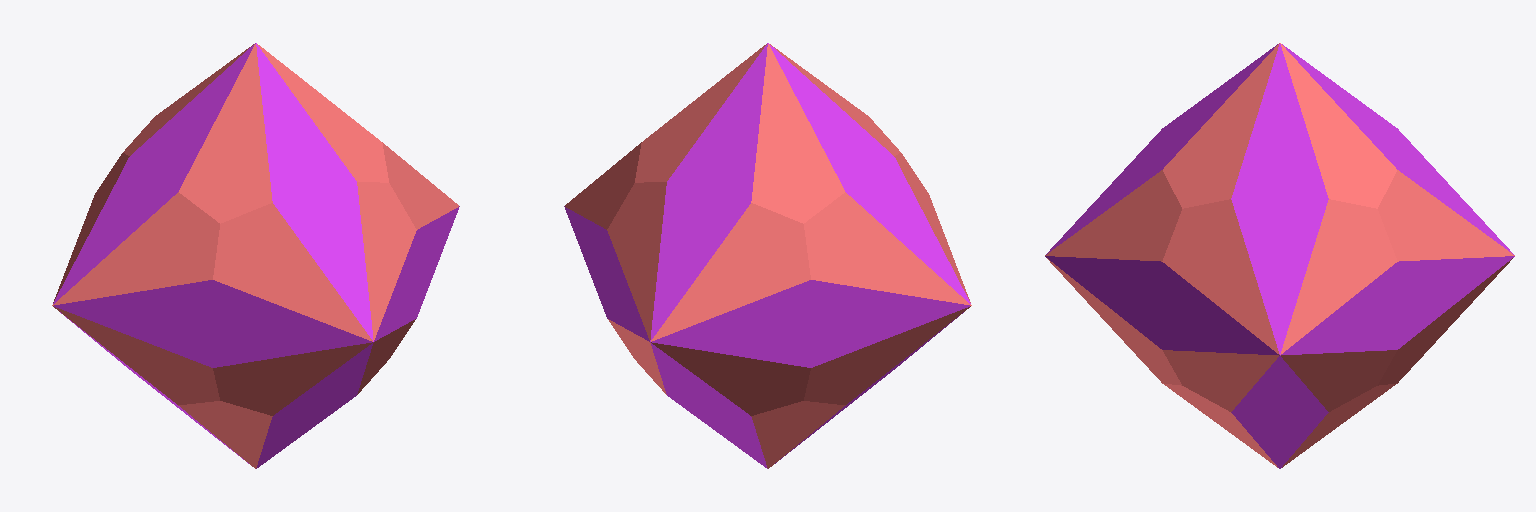
The model's file is JoinedTruncatedCube.obj.
3 views of the same model, side by side, from view 1: azimuth 30°, elevation 25°; view 2: azimuth 150°, elevation 25°; view 3: azimuth 270°, elevation 25° (orthographic).
Bounding box in the file's own units: 4.83 × 4.83 × 4.83.